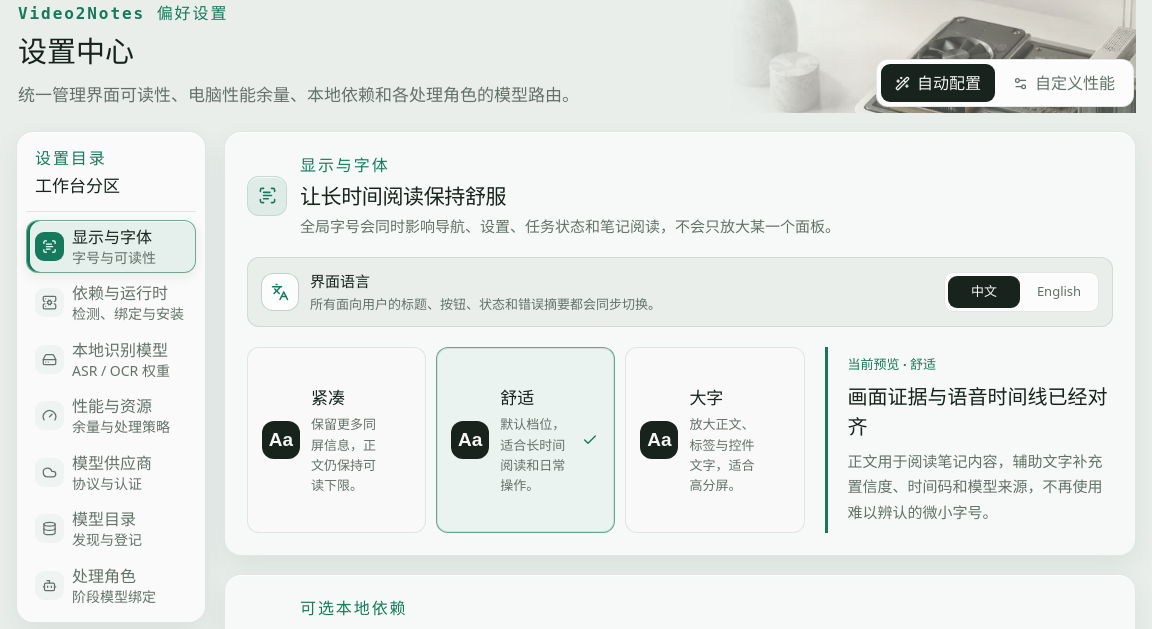
Test case: models and performance workspace › exposes explicit compatible runtime bindings in professional mode
The width and height of the screenshot is (1152, 629).
Click the button "自定义性能". click: click(1064, 83)
box: x1=999 y1=64 x2=1129 y2=102
(page scrolled)
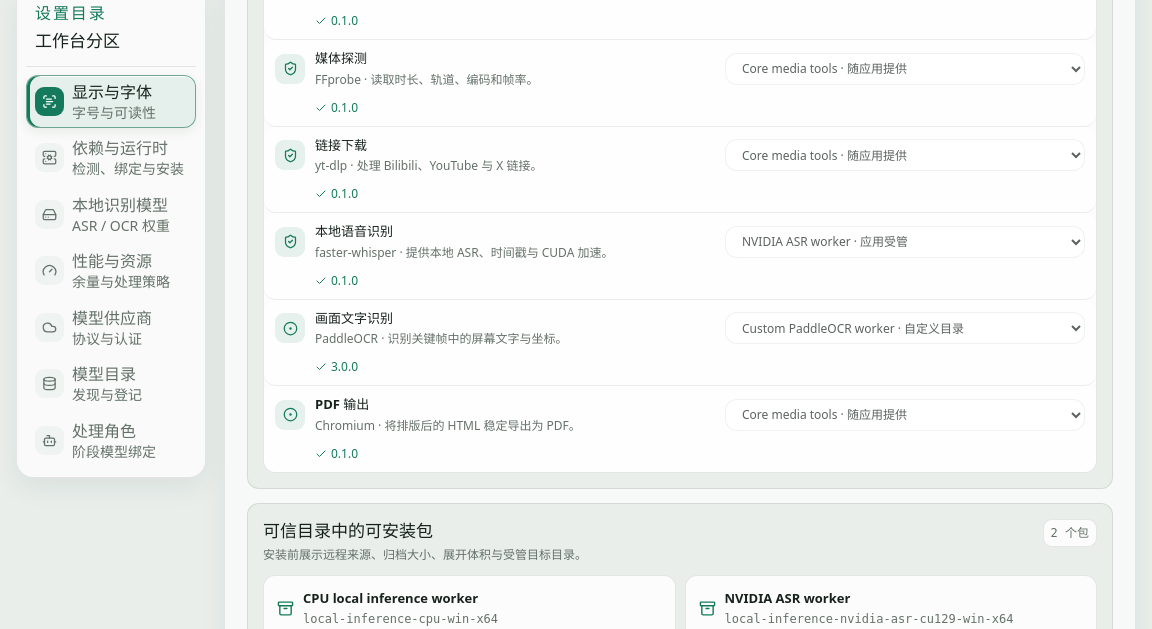
Result: the dropdown named "为本地语音识别选择运行时" next to "提供本地 ASR、时间戳与 CUDA 加速。" shows "NVIDIA ASR worker · 应用受管" at x1=725 y1=226 x2=1085 y2=258
Result: the dropdown named "为画面文字识别选择运行时" next to "识别关键帧中的屏幕文字与坐标。" shows "Custom PaddleOCR worker · 自定义目录" at x1=725 y1=312 x2=1085 y2=344
